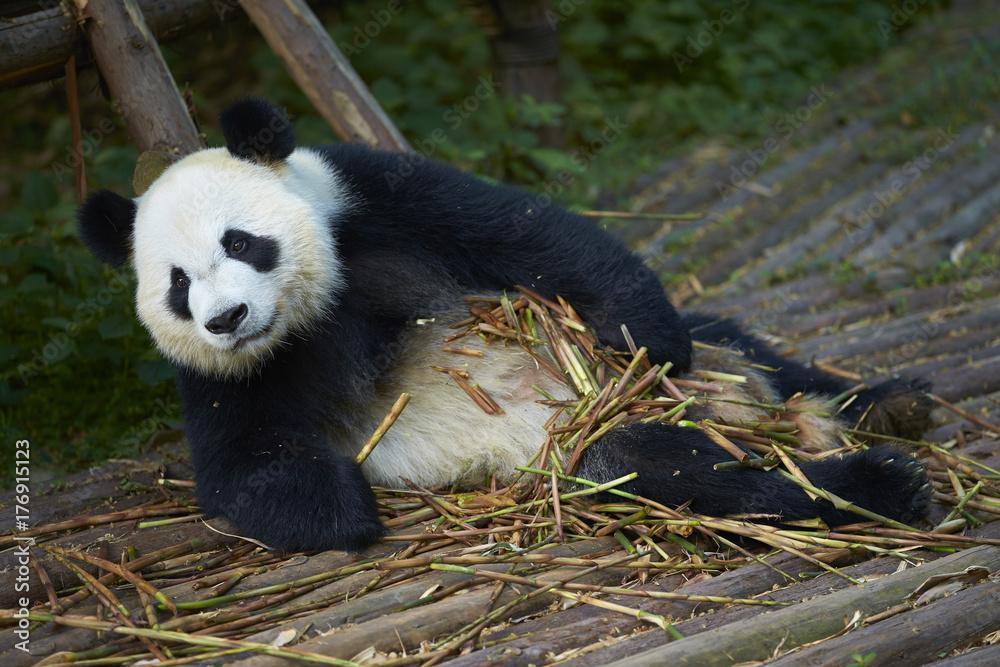panda: (82, 92, 951, 549)
